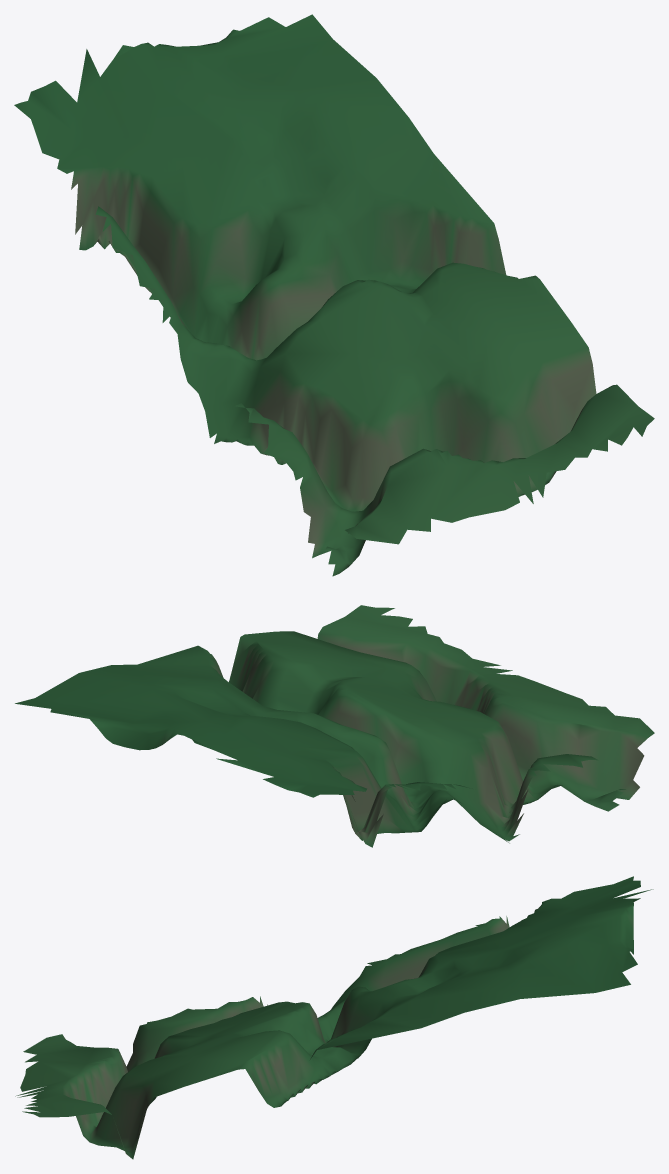
File: payo_land_xm5_y6_lod1.glb
3 renders of one model, top to bottom at view 1: azimuth 30°, elevation 25°; view 2: azimuth 150°, elevation 25°; view 3: azimuth 270°, elevation 25°, orthographic. The views are drawn at different scales.
Parts seen in each view (by area): view 1: payo_land_xm5_y6; view 2: payo_land_xm5_y6; view 3: payo_land_xm5_y6.
Part boxes in pixels (box(x1,y1,x2,y2)): payo_land_xm5_y6: box(14, 14, 654, 576); payo_land_xm5_y6: box(15, 605, 654, 847); payo_land_xm5_y6: box(15, 876, 653, 1159).
Bounding box in the file's own units: 130 × 109 × 273.
